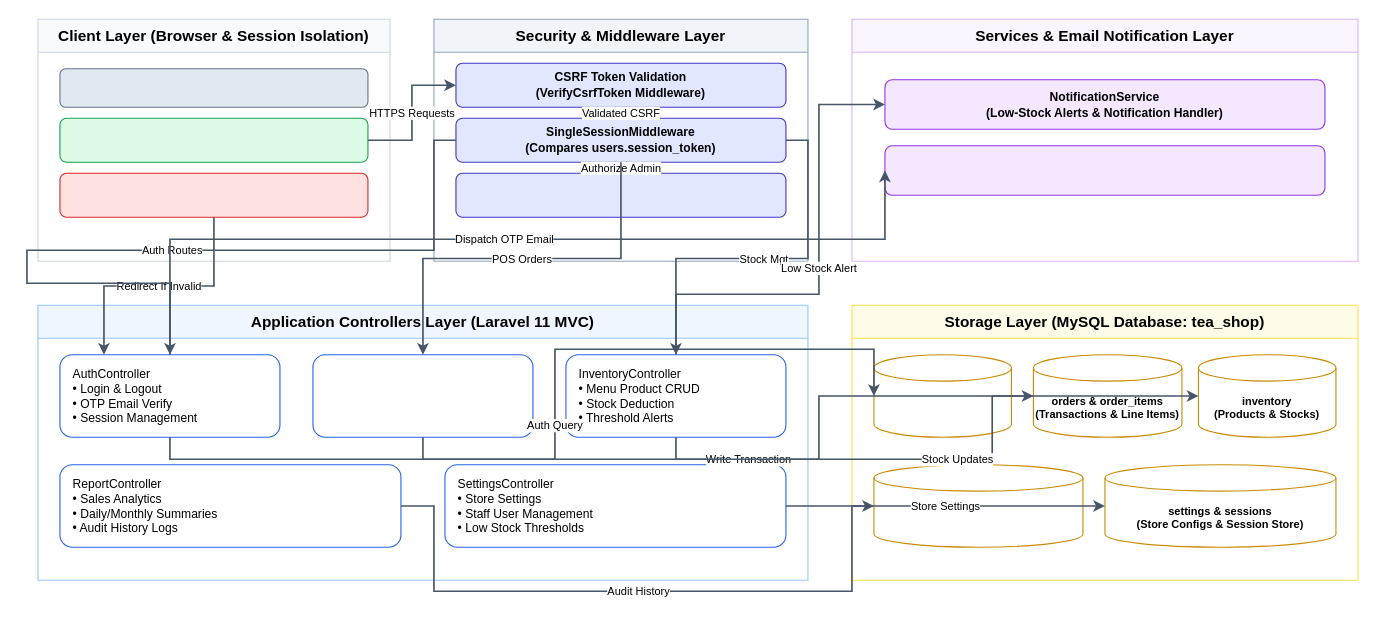
This 1378x620 diagram has some shape labels left out. Each missing label, with the centre of its shape:
"activity_logs & notifications (Audit Trail & Stock Alerts)" goes at point 978,505.
"AdminMiddleware (Role Authorization: admin vs staff)" goes at point 620,194.
"Cashier / Admin Web Browser" goes at point 213,87.
"Gmail OAuth2 / SMTP Service (OTP Code Delivery to Staff/Admin Email)" goes at point 1104,170.
"PosController • POS Cart & Checkout • Cash / GCash Payment • Receipt Generator" goes at point 422,395.
"Primary Active Tab (Authenticated session_token)" goes at point 213,139.
"Secondary Tab Guard (sessionStorage Client Verification)" goes at point 213,194.
"users (Auth, Roles, session_token)" goes at point 942,395.
